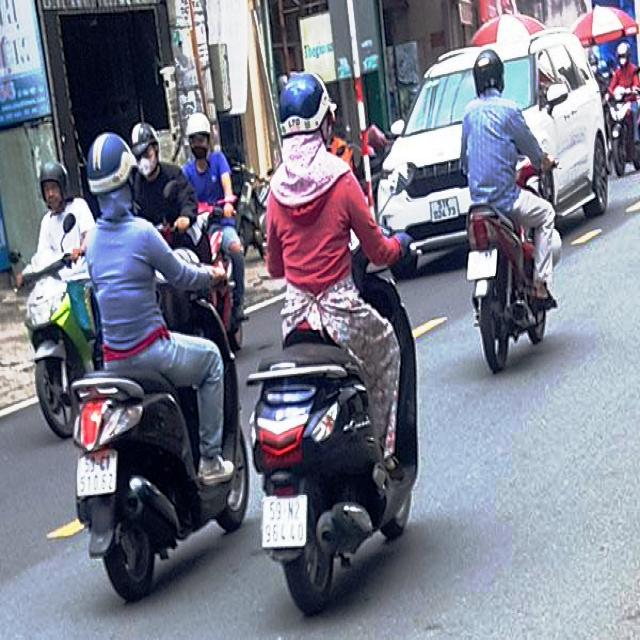license_plate: (261, 496, 308, 551), (77, 453, 118, 497)
